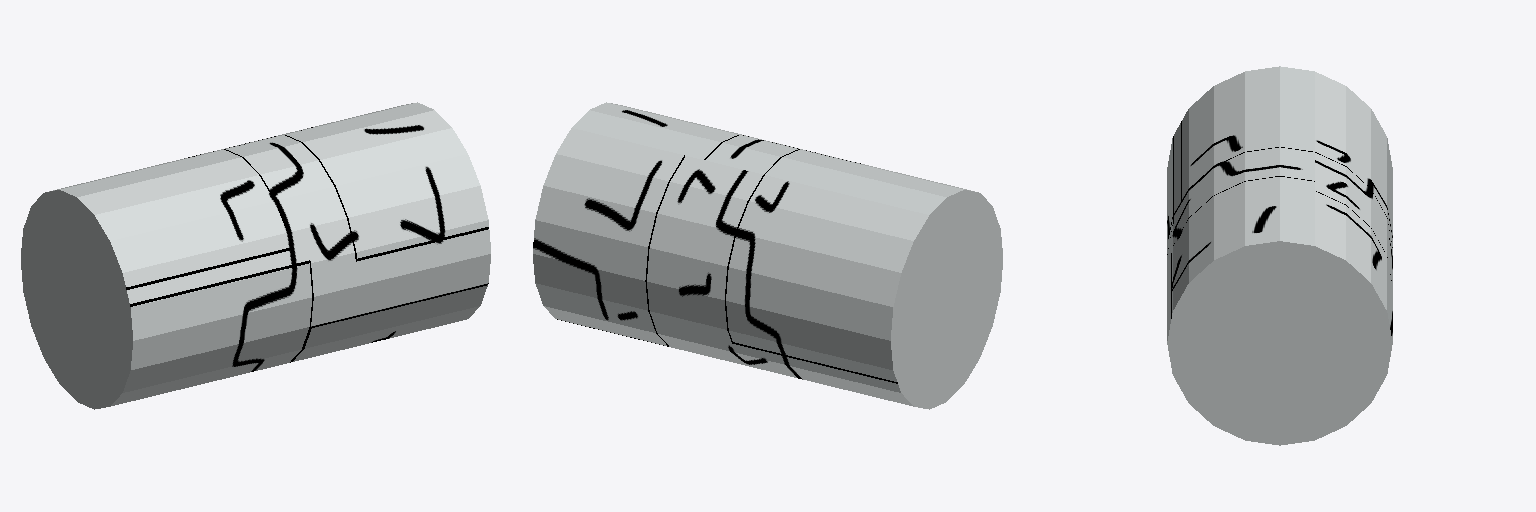
3 views of the same model, side by side, from view 1: azimuth 30°, elevation 25°; view 2: azimuth 150°, elevation 25°; view 3: azimuth 270°, elevation 25° (orthographic).
Parts seen in each view (by area): view 1: polySurface2 pCylinder28; view 2: polySurface2 pCylinder28; view 3: polySurface2 pCylinder28.
Boxes of the visible parts, box(x1,y1,x2,y2) form: polySurface2 pCylinder28: box(21, 102, 490, 409); polySurface2 pCylinder28: box(533, 102, 1002, 409); polySurface2 pCylinder28: box(1167, 66, 1392, 445).
Bounding box in the file's own units: 0.9708 × 0.5299 × 0.5299.
Materials: 1 (1 with a texture image).